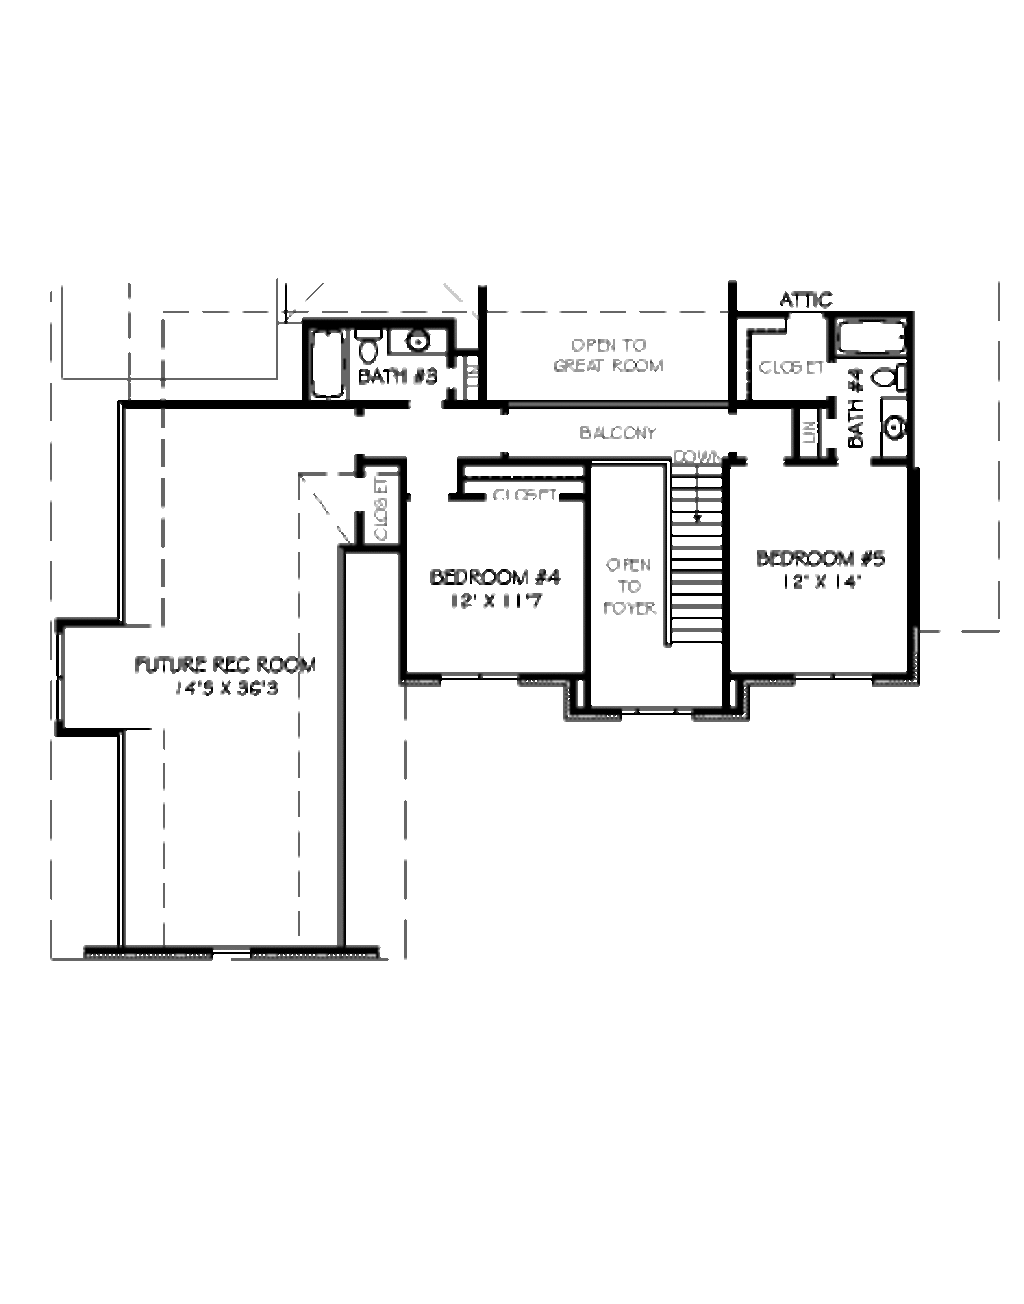large_sink: (865, 358, 919, 390), (357, 320, 383, 370)
small_sink: (391, 322, 455, 356), (879, 396, 909, 466)
stairs: (657, 452, 733, 654)
tub: (305, 330, 353, 416), (837, 322, 905, 358)
